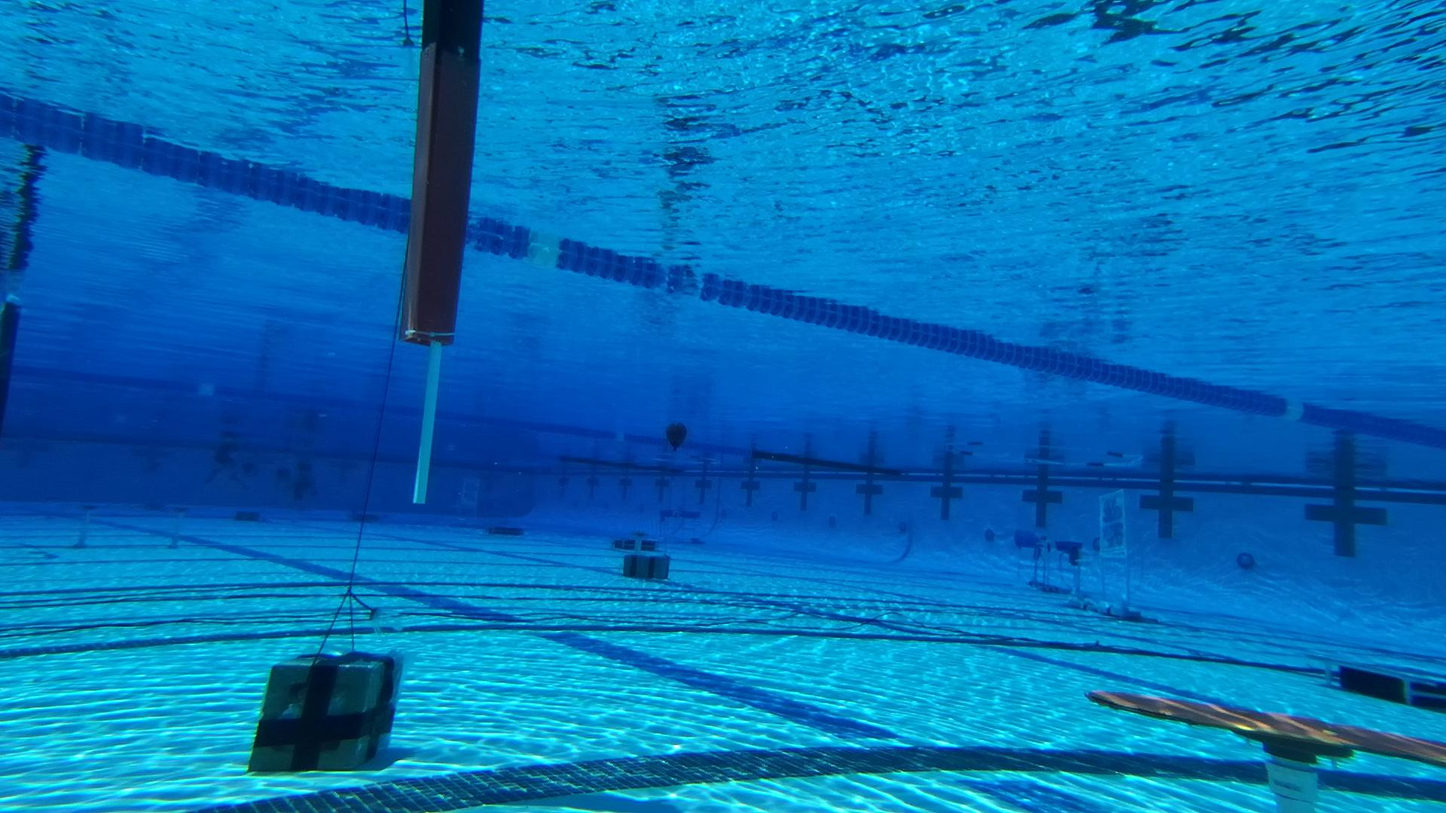buoy: (664, 419, 687, 450)
coral-box-side: (1017, 533, 1080, 595), (660, 510, 699, 543)
dropper-box-side: (1333, 663, 1446, 708), (613, 537, 659, 551), (489, 528, 525, 536)
path: (1080, 689, 1446, 813), (69, 501, 187, 549)
red octagon: (1104, 503, 1112, 514), (1105, 529, 1112, 541), (1115, 507, 1121, 519), (1116, 536, 1122, 546), (471, 495, 475, 501), (465, 492, 469, 497), (466, 484, 469, 490), (472, 486, 475, 491)
